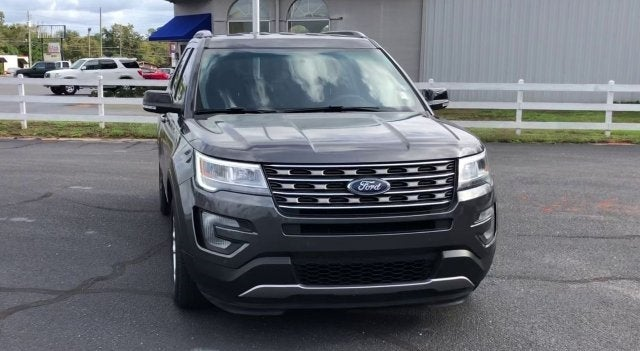Ford Explorer: (157, 31, 497, 315)
